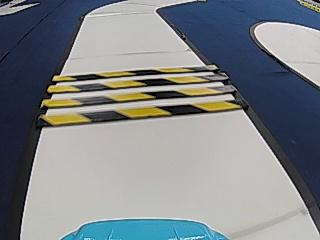bump: (36, 59, 242, 133)
